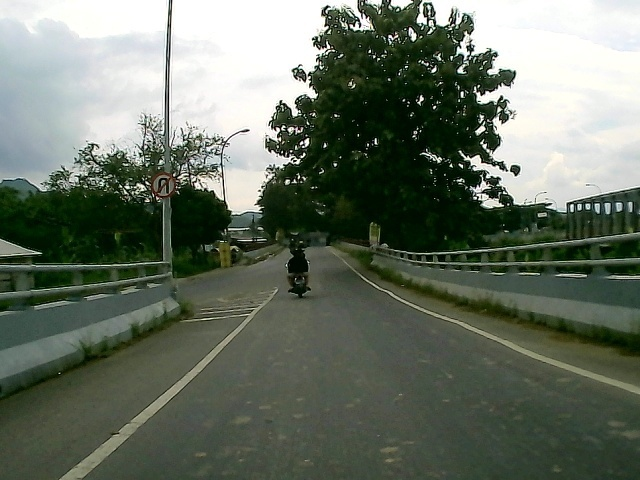Dilarang berbalik arah: (149, 171, 181, 201)
